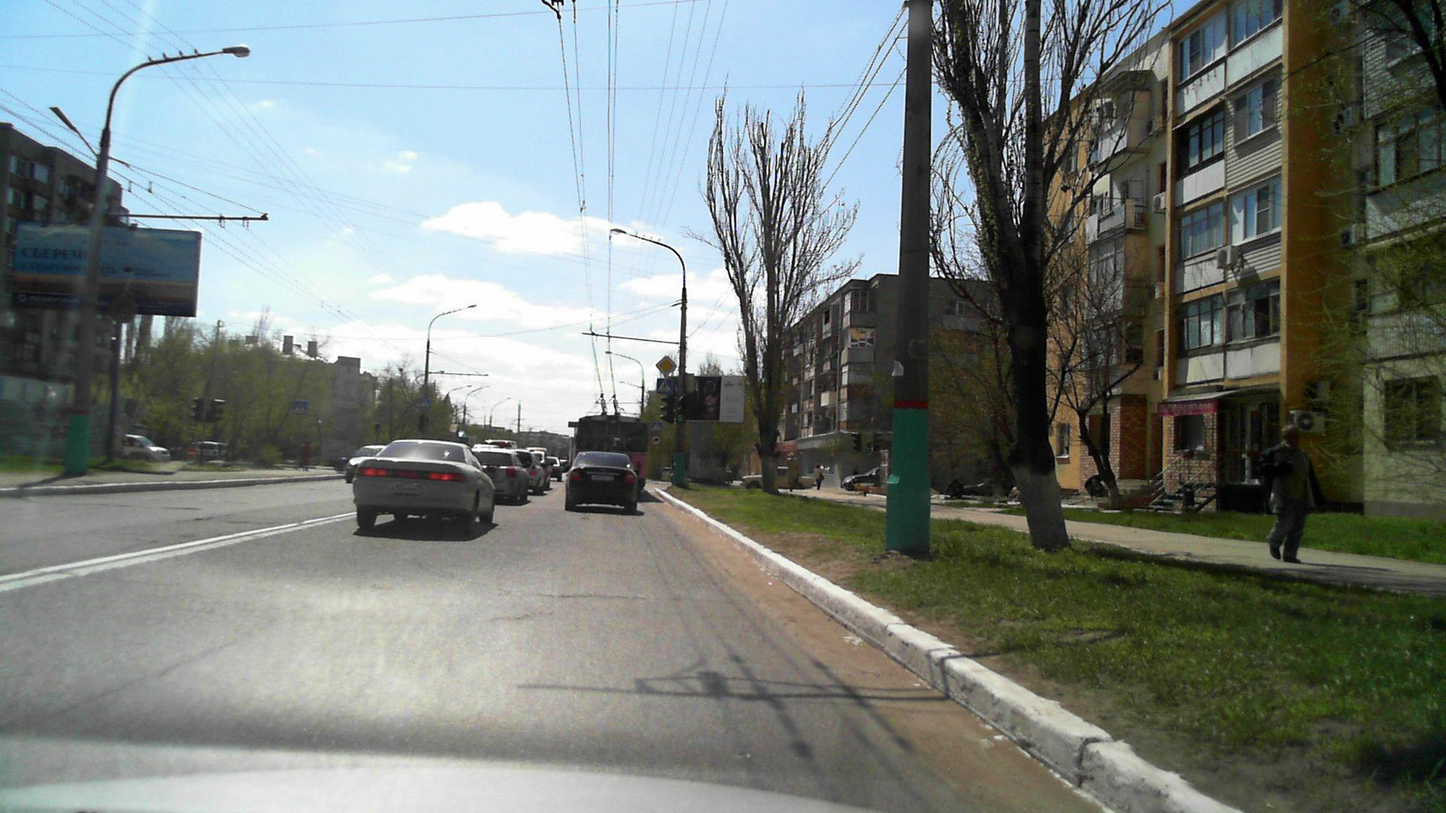off traffic light: (204, 398, 226, 424), (659, 396, 674, 424)
road_sign: (656, 355, 677, 376), (656, 378, 675, 394)
traffic light: (675, 395, 687, 424)
